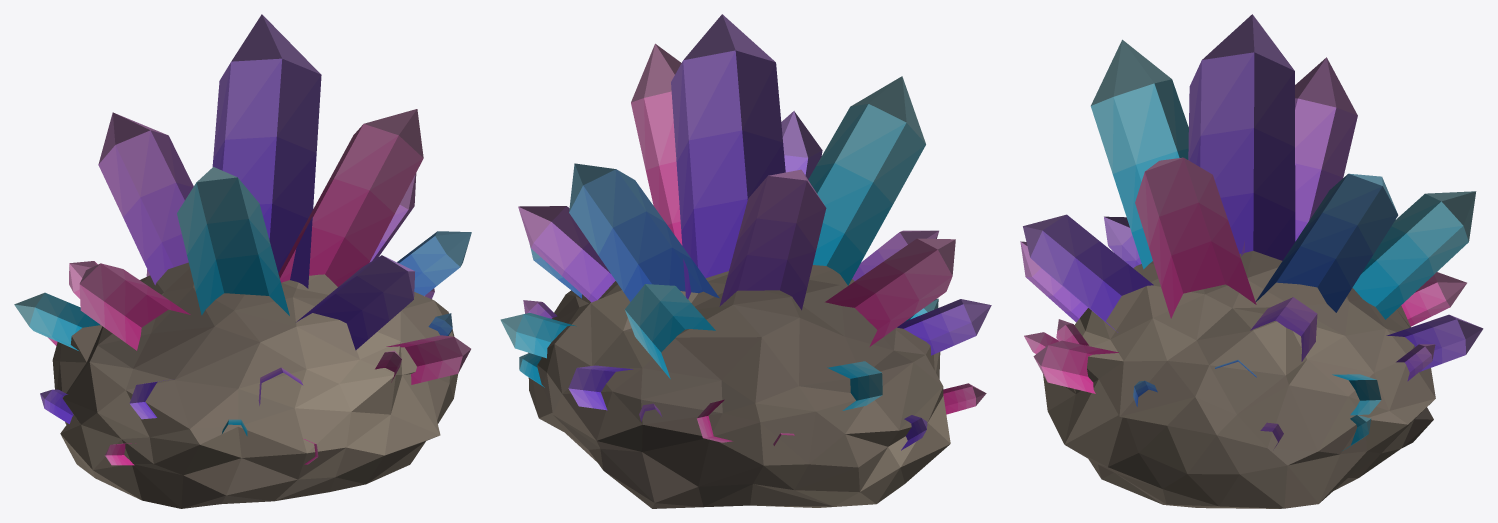
Rendered from crystals.glb.
3 renders of one model, left to right at view 1: azimuth 30°, elevation 25°; view 2: azimuth 150°, elevation 25°; view 3: azimuth 270°, elevation 25°, orthographic. The views are drawn at different scales.
Visible parts, largest first — view 1: crystals; view 2: crystals; view 3: crystals.
Part boxes in pixels (left/top/right/bottom): crystals: left=14, top=14, right=471, bottom=508; crystals: left=500, top=14, right=991, bottom=508; crystals: left=1020, top=14, right=1483, bottom=508.
Size of the model in its own units: 2.84 by 2.81 by 2.69.
